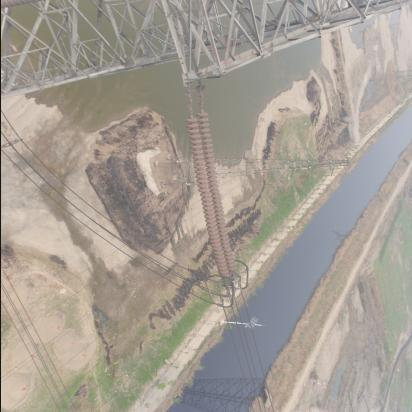insulator: (187, 103, 241, 282)
